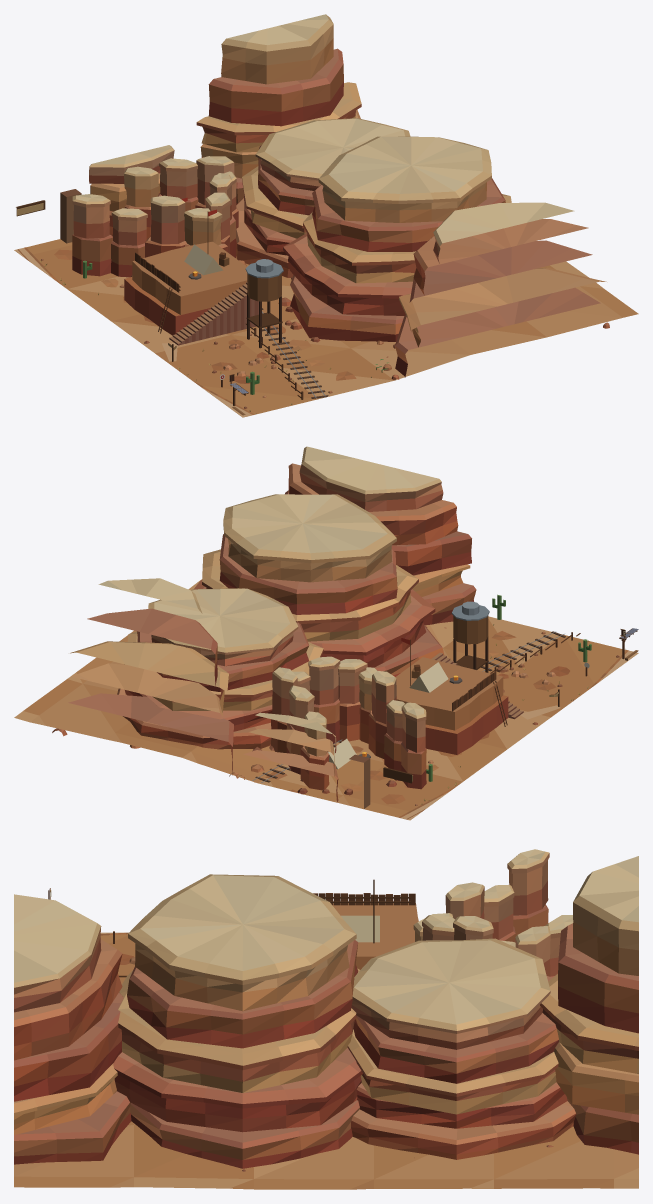
The picture shows the model from 3 angles, top to bottom: view 1: azimuth 30°, elevation 25°; view 2: azimuth 150°, elevation 25°; view 3: azimuth 270°, elevation 25°; orthographic projection. The views are drawn at different scales.
Visible parts, largest first — view 1: baked; view 2: baked; view 3: baked.
Part boxes in pixels (x1,y1,x2,y2): baked: [14, 14, 638, 417]; baked: [14, 446, 638, 820]; baked: [14, 849, 638, 1189].
Size of the model in its own units: 62.5 by 24.16 by 62.5.
